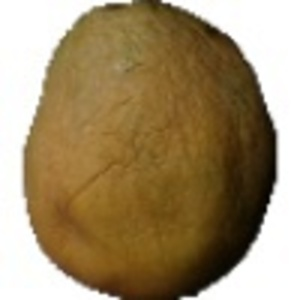mamão: (18, 3, 282, 299)
